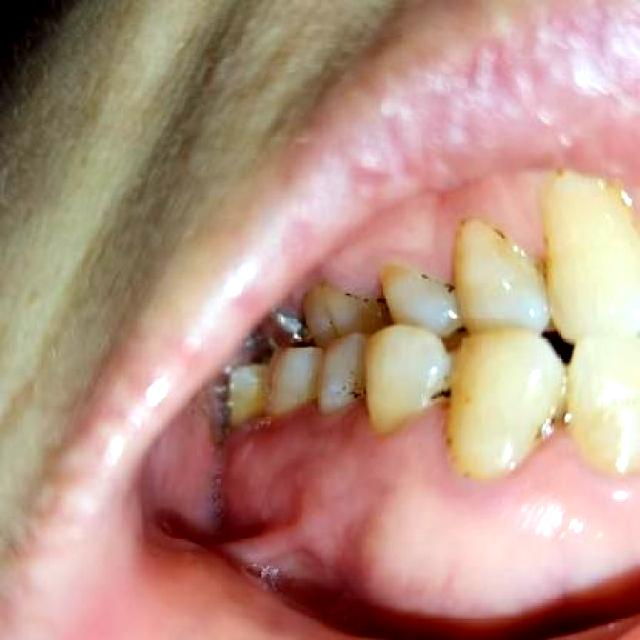Plaque: (477, 218, 546, 280), (518, 407, 565, 446), (408, 262, 456, 297), (331, 284, 385, 309), (414, 386, 459, 412)
